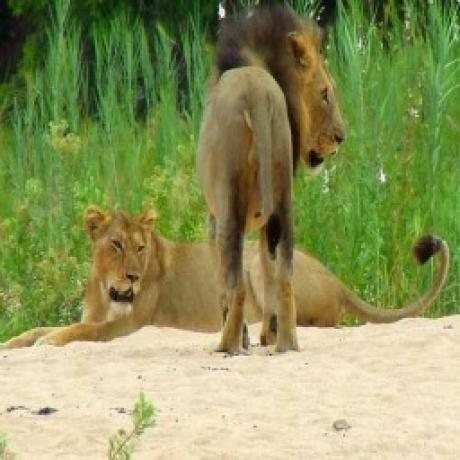Lion: (0, 203, 453, 345), (198, 0, 347, 356)
